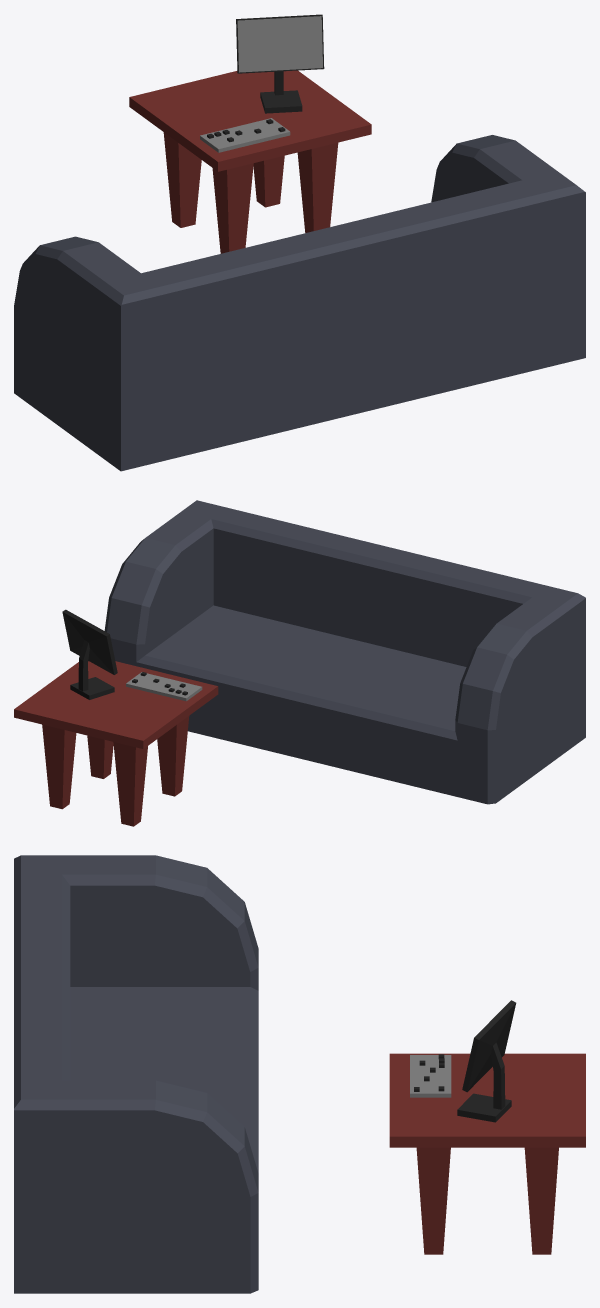
The model's file is sofaIStolik.fbx.
The picture shows the model from 3 angles, top to bottom: view 1: azimuth 30°, elevation 25°; view 2: azimuth 150°, elevation 25°; view 3: azimuth 270°, elevation 25°; orthographic projection. The views are drawn at different scales.
Parts seen in each view (by area): view 1: SofaIStolik; view 2: SofaIStolik; view 3: SofaIStolik.
Part boxes in pixels (x1,y1,x2,y2): SofaIStolik: (14, 14, 585, 471); SofaIStolik: (14, 500, 585, 826); SofaIStolik: (14, 855, 585, 1293).
Bounding box in the file's own units: 28088 × 11789 × 27030.
